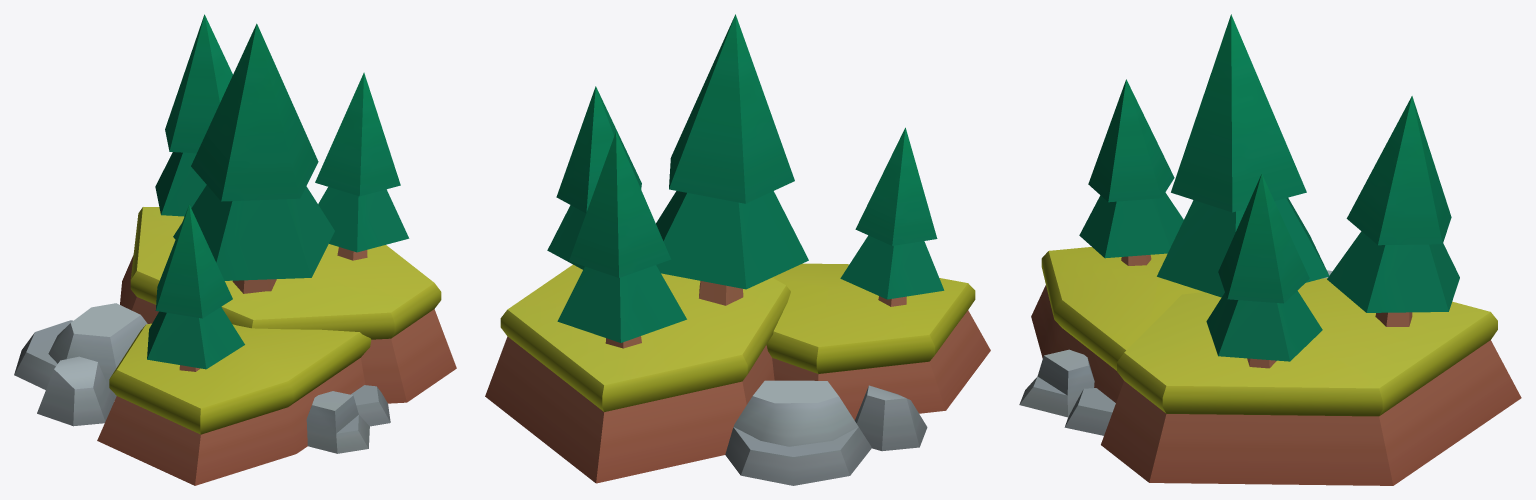
Rendered from kay-colinas-arvores-b.gltf.
3 renders of one model, left to right at view 1: azimuth 30°, elevation 25°; view 2: azimuth 150°, elevation 25°; view 3: azimuth 270°, elevation 25°, orthographic. The views are drawn at different scales.
Visible parts, largest first — view 1: hills_B_trees; view 2: hills_B_trees; view 3: hills_B_trees.
Part boxes in pixels (box(x1,y1,x2,y2)): hills_B_trees: box(14, 14, 456, 485); hills_B_trees: box(485, 14, 990, 485); hills_B_trees: box(1019, 14, 1521, 485).
Bounding box in the file's own units: 7.37 × 6.85 × 8.12.
1 material, 1 textured.
